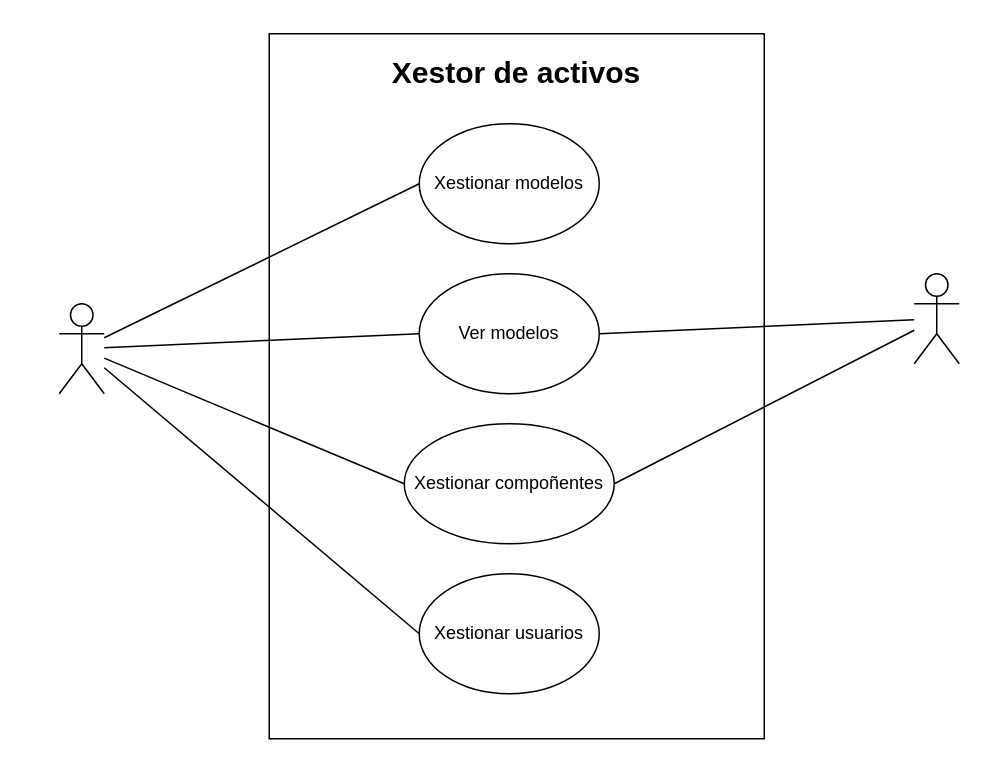
Image size: 993x765. Some labels were removed from this diagram. The box of each missing label's shape, as (x1, y1, x2, y2) in pixels:
Administrador: (58, 302, 104, 394)
Técnico: (913, 272, 959, 364)
